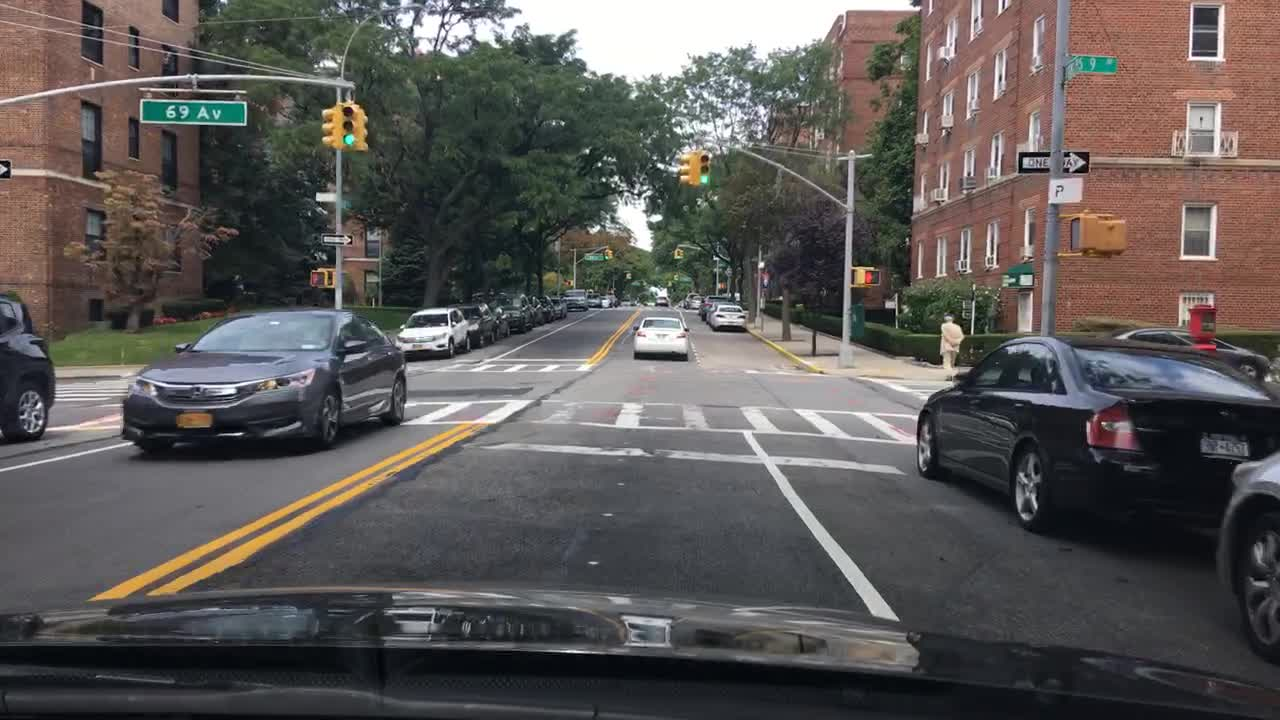car: (912, 331, 1279, 532), (119, 307, 409, 453), (1216, 441, 1278, 663), (0, 289, 57, 441), (1114, 324, 1269, 378), (396, 305, 470, 354), (628, 312, 691, 360), (495, 287, 536, 333), (458, 299, 497, 346), (707, 302, 746, 331), (482, 302, 510, 338), (700, 294, 733, 317), (563, 287, 589, 311), (527, 294, 546, 323), (539, 294, 555, 323), (553, 296, 567, 317), (582, 292, 600, 308), (653, 292, 670, 305), (682, 293, 696, 308), (609, 293, 621, 307), (691, 294, 703, 307), (602, 294, 613, 307)
person: (935, 311, 965, 383)
traffic light: (1070, 209, 1097, 247), (337, 104, 361, 146), (1104, 220, 1131, 256), (320, 110, 335, 144), (694, 155, 711, 184), (360, 109, 370, 153), (857, 267, 879, 287), (679, 154, 691, 184), (310, 269, 326, 287), (603, 247, 609, 260), (675, 247, 680, 260)
traffic sign: (136, 100, 246, 126), (1016, 150, 1087, 173), (1066, 52, 1115, 74), (1050, 175, 1082, 203), (1056, 56, 1077, 81), (322, 233, 351, 243), (313, 191, 334, 202), (1, 158, 11, 178), (582, 252, 603, 261), (710, 266, 721, 271)
